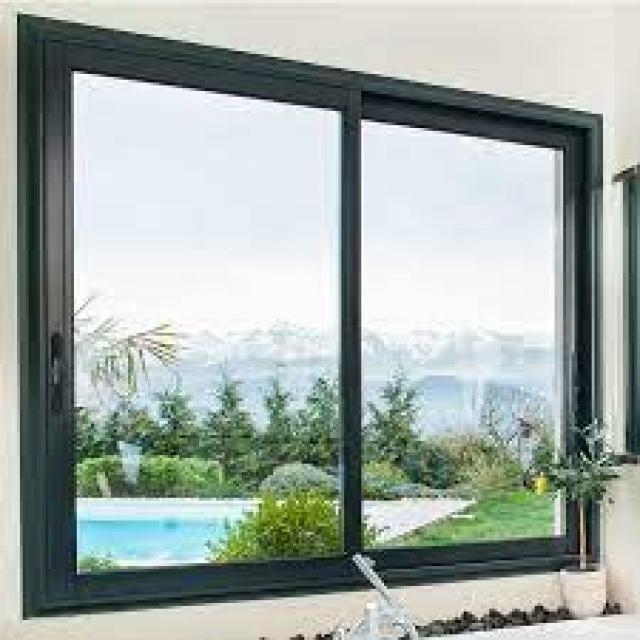Window: (8, 6, 640, 623)
